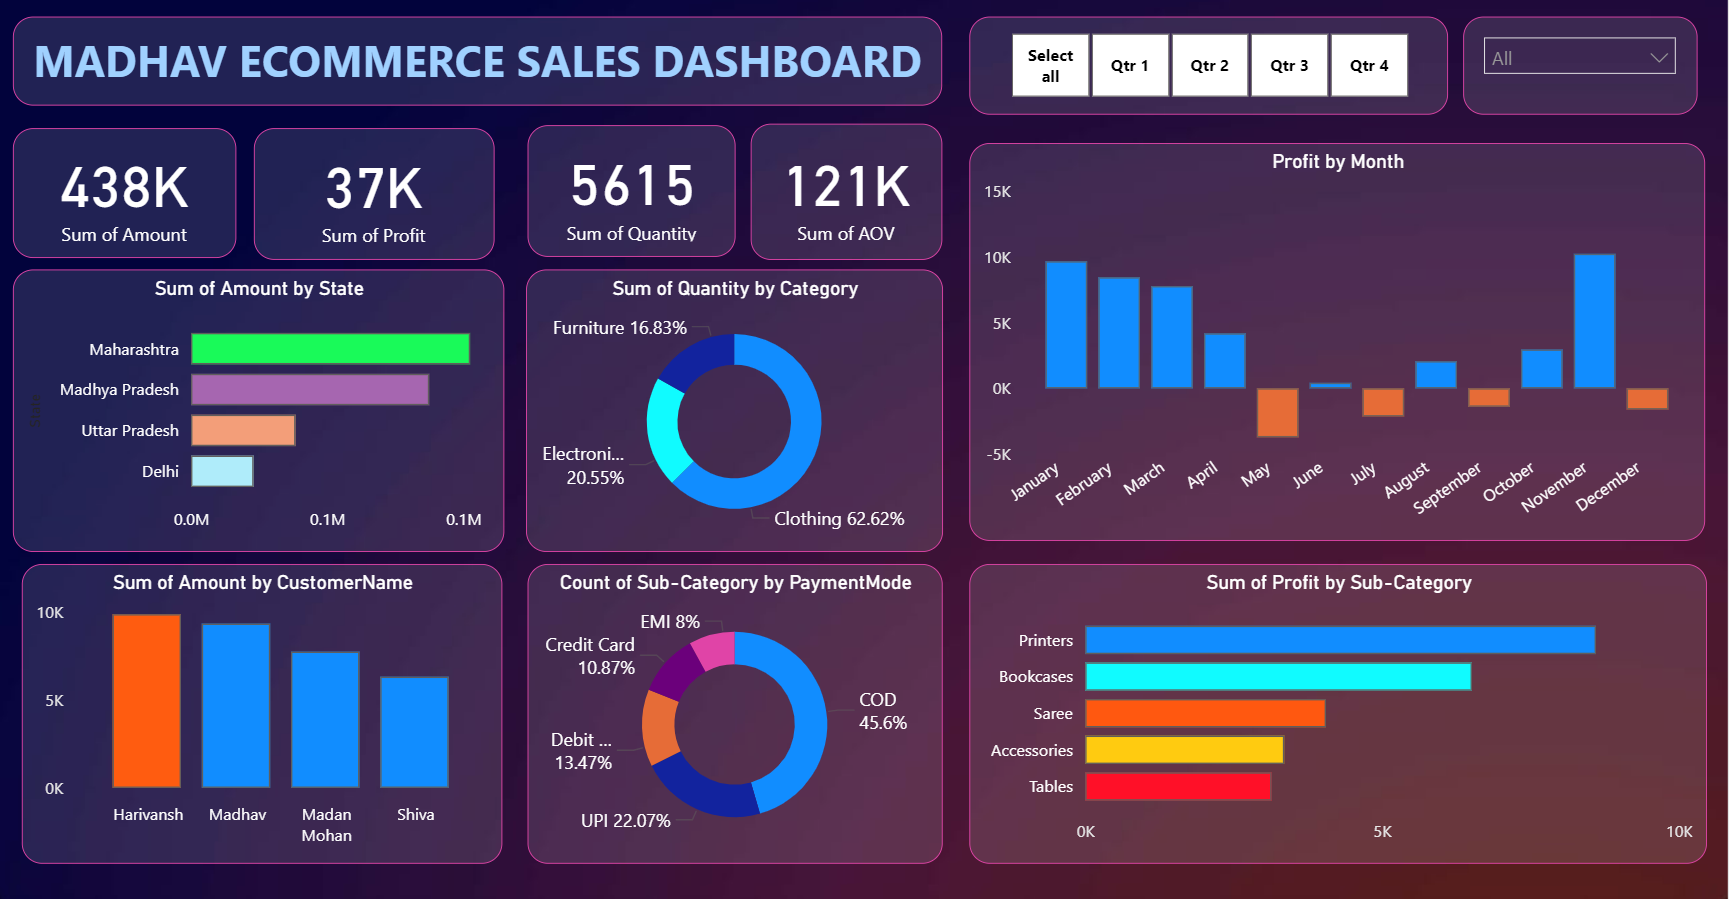

What the dashboard file says about the page in this screenshot:
{"tool":"powerbi","page":{"name":"Page 1","canvas":[1280,720],"ordinal":0},"visuals":[{"type":"columnChart","title":"Profit by Month","fields":{"Y":["Details.Profit"],"Category":["Orders.Order Date.Variation.Date Hierarchy.Month"]},"box":[719.4,130.6,544.6,294.4],"z":0},{"type":"barChart","fields":{"Category":["Details.Sub-Category"],"Y":["Details.Profit"]},"box":[719.4,442.3,546.2,221.9],"z":1000},{"type":"donutChart","fields":{"Category":["Details.Category"],"Y":["Details.Quantity"]},"box":[390.4,225.1,308.5,209.4],"z":2000},{"type":"donutChart","fields":{"Category":["Details.PaymentMode"],"Y":["Details.Sub-Category"]},"box":[391.9,442.3,306.9,221.9],"z":3000},{"type":"card","fields":{"Values":["Details.Profit"]},"box":[188.9,119.6,177.9,97.6],"z":4000},{"type":"card","fields":{"Values":["Details.Amount"]},"box":[11,119.6,165.3,96],"z":5000},{"type":"card","fields":{"Values":["Details.Quantity"]},"box":[391.9,118.1,154.3,97.6],"z":6000},{"type":"card","fields":{"Values":["Details.AOV"]},"box":[557.2,116.5,141.7,100.7],"z":7000},{"type":"columnChart","fields":{"Category":["Orders.CustomerName"],"Y":["Details.Amount"]},"box":[17.3,442.3,355.7,221.9],"z":8000},{"type":"clusteredBarChart","fields":{"Category":["Orders.State"],"Y":["Details.Amount"]},"box":[11,225.1,363.6,209.3],"z":9000},{"type":"slicer","fields":{"Values":["Orders.Order Date.Variation.Date Hierarchy.Quarter"]},"box":[719.4,37.8,354.2,72.4],"z":11000},{"type":"slicer","fields":{"Values":["Orders.State"]},"box":[1084.6,37.8,173.2,72.4],"z":12000},{"type":"textbox","box":[11,37.8,687.9,66.1],"z":13000}]}

Visuals, with their boxes on the page's 1280x720 design canvas (x1, y1, x2, y2). These are canvas units, not pixel positions in the 1729x899 screenshot, which may show the page scaled, cropped or inside an application window:
"Profit by Month" columnChart: <region>719, 131, 1264, 425</region>
barChart - Details.Sub-Category x Details.Profit: <region>719, 442, 1266, 664</region>
donutChart - Details.Category x Details.Quantity: <region>390, 225, 699, 434</region>
donutChart - Details.PaymentMode x Details.Sub-Category: <region>392, 442, 699, 664</region>
card - Details.Profit: <region>189, 120, 367, 217</region>
card - Details.Amount: <region>11, 120, 176, 216</region>
card - Details.Quantity: <region>392, 118, 546, 216</region>
card - Details.AOV: <region>557, 116, 699, 217</region>
columnChart - Orders.CustomerName x Details.Amount: <region>17, 442, 373, 664</region>
clusteredBarChart - Orders.State x Details.Amount: <region>11, 225, 375, 434</region>
slicer - Orders.Order Date.Variation.Date Hierarchy.Quarter: <region>719, 38, 1074, 110</region>
slicer - Orders.State: <region>1085, 38, 1258, 110</region>
textbox: <region>11, 38, 699, 104</region>
